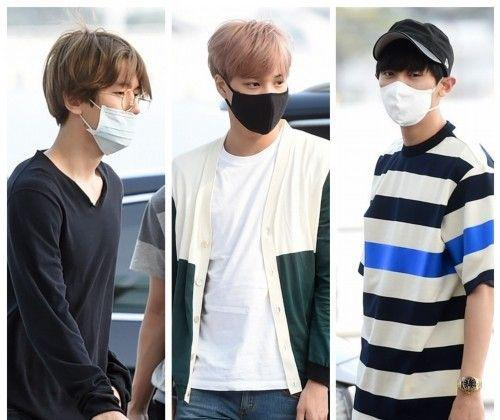OK: (374, 62, 442, 130), (228, 70, 292, 134)
WRONG: (70, 76, 149, 155)
